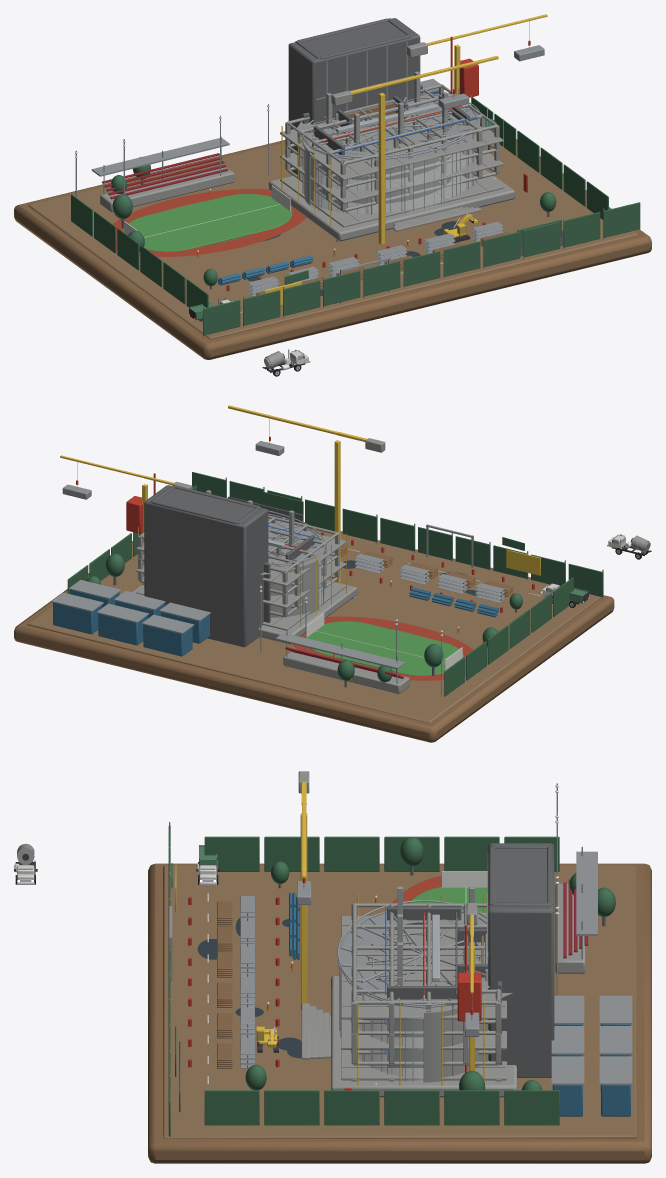
File: stage_tower.glb
3 views of the same model, one above another, from view 1: azimuth 30°, elevation 25°; view 2: azimuth 150°, elevation 25°; view 3: azimuth 270°, elevation 25° (orthographic). The views are drawn at different scales.
Parts seen in each view (by area): view 1: Site Slab, Wood Base, StageTower, SportsField, GlassLobby, TheaterPodium, SLAB_L3, SLAB_L1, AthleticTrack, SLAB_L2, GrandstandBase, StandRoof (+28 smaller); view 2: Site Slab, StageTower, Wood Base, SportsField, GrandstandBase, AthleticTrack, RearAuditoriumWall, TheaterPodium, StandRoof, Office3, Office4, Office5 (+30 smaller); view 3: Site Slab, Wood Base, StageTower, SLAB_L3, TheaterPodium, RearAuditoriumWall, GlassLobby, SLAB_L1, FencePanelSide25-4, FencePanelSide25-9, FencePanelSide25-14, FencePanelSide251 (+29 smaller).
Boxes of the visible parts, bbox=[...] form: Site Slab: bbox=[28, 142, 637, 339]; Wood Base: bbox=[14, 139, 651, 359]; StageTower: bbox=[288, 18, 420, 175]; SportsField: bbox=[122, 194, 292, 251]; GlassLobby: bbox=[310, 149, 475, 213]; TheaterPodium: bbox=[268, 169, 514, 241]; SLAB_L3: bbox=[280, 93, 503, 180]; SLAB_L1: bbox=[280, 171, 503, 227]; AthleticTrack: bbox=[113, 189, 306, 256]; SLAB_L2: bbox=[280, 149, 503, 203]; GrandstandBase: bbox=[100, 166, 234, 212]; StandRoof: bbox=[91, 138, 229, 176]; Site Slab: bbox=[27, 528, 600, 723]; StageTower: bbox=[144, 485, 268, 647]; Wood Base: bbox=[14, 522, 614, 742]; SportsField: bbox=[304, 621, 464, 675]; GrandstandBase: bbox=[283, 651, 409, 693]; AthleticTrack: bbox=[292, 616, 472, 680]; RearAuditoriumWall: bbox=[270, 559, 318, 617]; TheaterPodium: bbox=[131, 580, 357, 643]; StandRoof: bbox=[275, 632, 405, 669]; Office3: bbox=[143, 624, 192, 656]; Office4: bbox=[98, 613, 147, 645]; Office5: bbox=[53, 602, 102, 634]; Site Slab: bbox=[163, 865, 636, 1138]; Wood Base: bbox=[148, 863, 651, 1163]; StageTower: bbox=[488, 843, 554, 1077]; SLAB_L3: bbox=[341, 916, 506, 1019]; TheaterPodium: bbox=[331, 976, 516, 1097]; RearAuditoriumWall: bbox=[424, 1007, 488, 1082]; GlassLobby: bbox=[340, 970, 423, 1081]; SLAB_L1: bbox=[341, 1049, 506, 1080]; FencePanelSide25-4: bbox=[324, 1090, 379, 1125]; FencePanelSide25-9: bbox=[264, 1090, 319, 1125]; FencePanelSide25-14: bbox=[204, 1090, 259, 1125]; FencePanelSide251: bbox=[384, 1090, 439, 1125].
Size of the model in its own units: 58.2 by 22.15 by 53.18.
